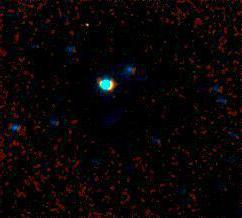star: (77, 12, 107, 42)
